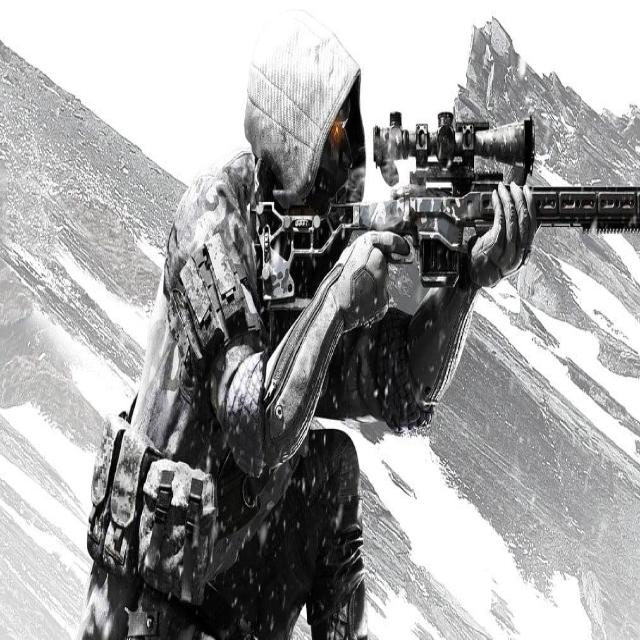weapon: (259, 109, 639, 330)
